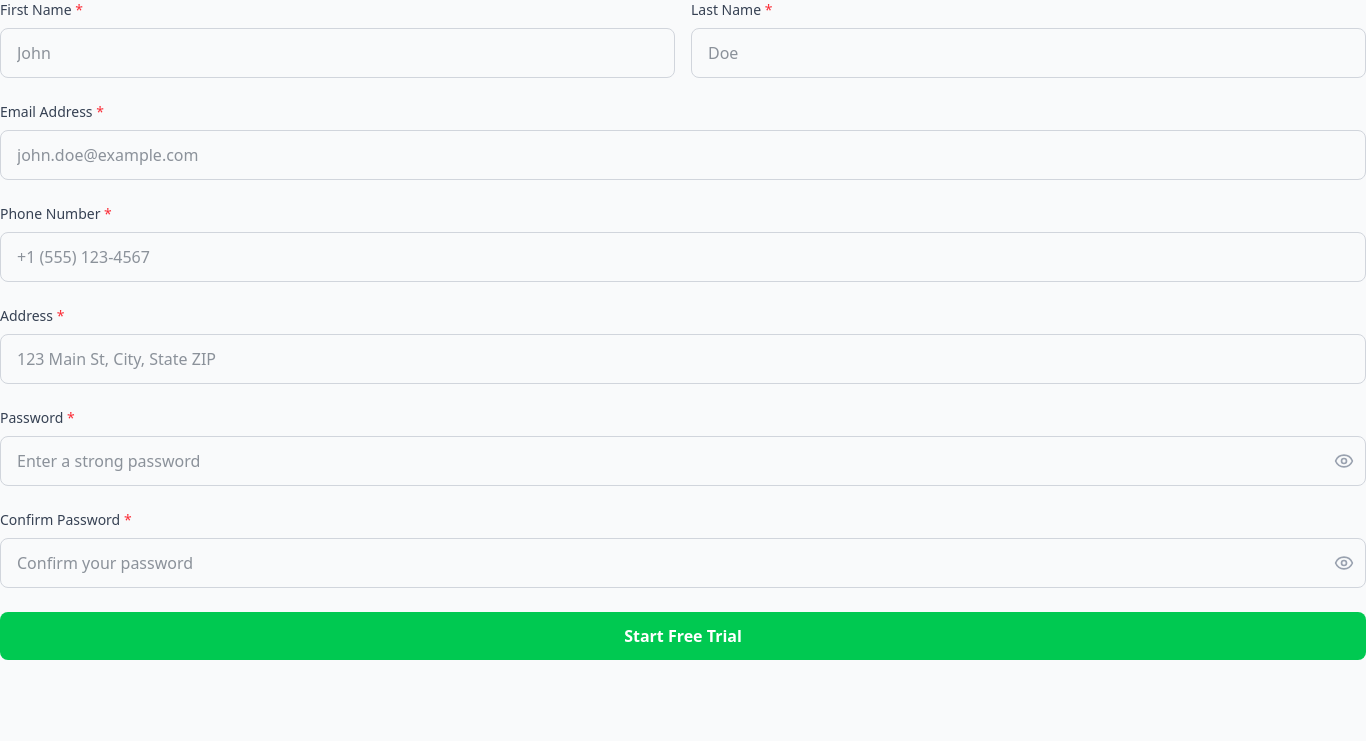
Test: RegistrationForm › Password Strength Validation › should accept strong password
Type "StrongPass123!" into the password field labelled "Password *" at [683, 461], box 0,436 -> 1365,486
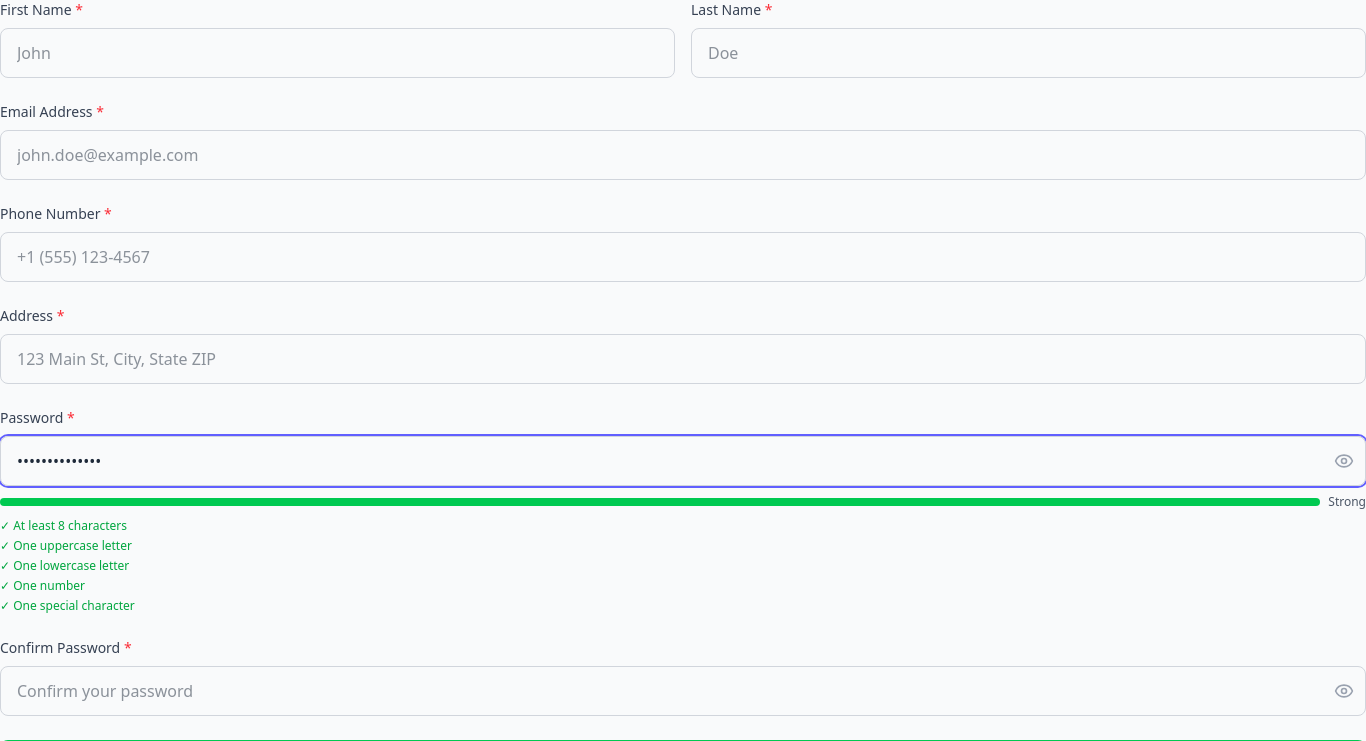
Expected: the text "Strong" is shown, 1328,494 -> 1365,510
